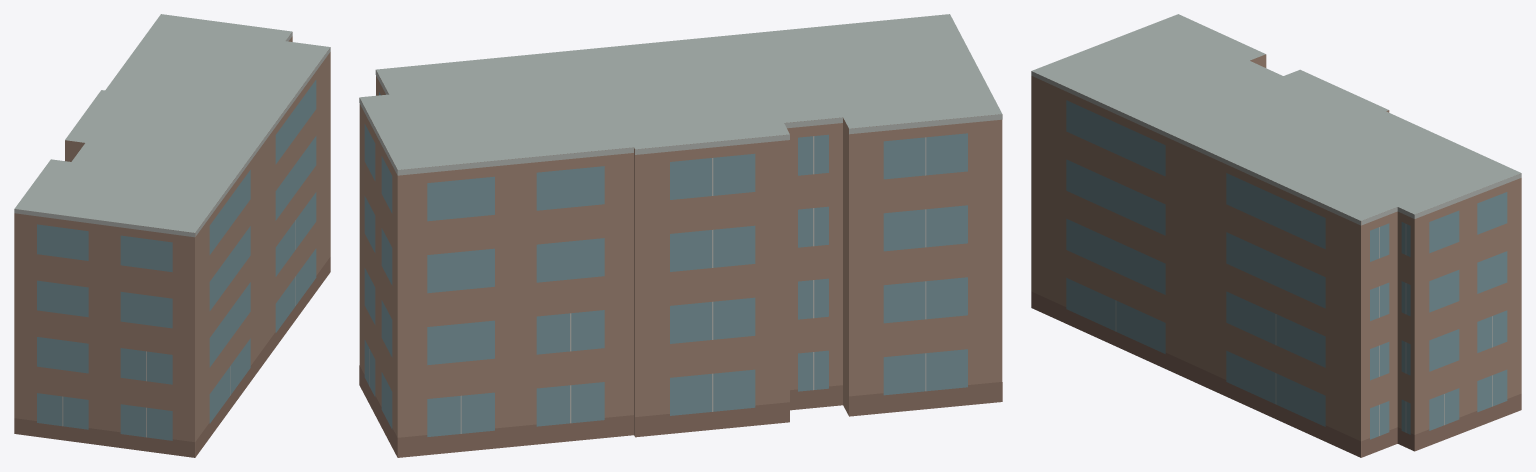
The model's file is survey-upis-33015312.glb.
3 renders of one model, left to right at view 1: azimuth 30°, elevation 25°; view 2: azimuth 150°, elevation 25°; view 3: azimuth 270°, elevation 25°, orthographic. The views are drawn at different scales.
Visible parts, largest first — view 1: survey-upis-33015312.tmp; view 2: survey-upis-33015312.tmp; view 3: survey-upis-33015312.tmp.
Boxes of the visible parts, x1=… form: survey-upis-33015312.tmp: x1=14, y1=14, x2=330, y2=457; survey-upis-33015312.tmp: x1=359, y1=14, x2=1002, y2=457; survey-upis-33015312.tmp: x1=1031, y1=14, x2=1521, y2=457.
Size of the model in its own units: 23.63 by 12.6 by 23.65.
